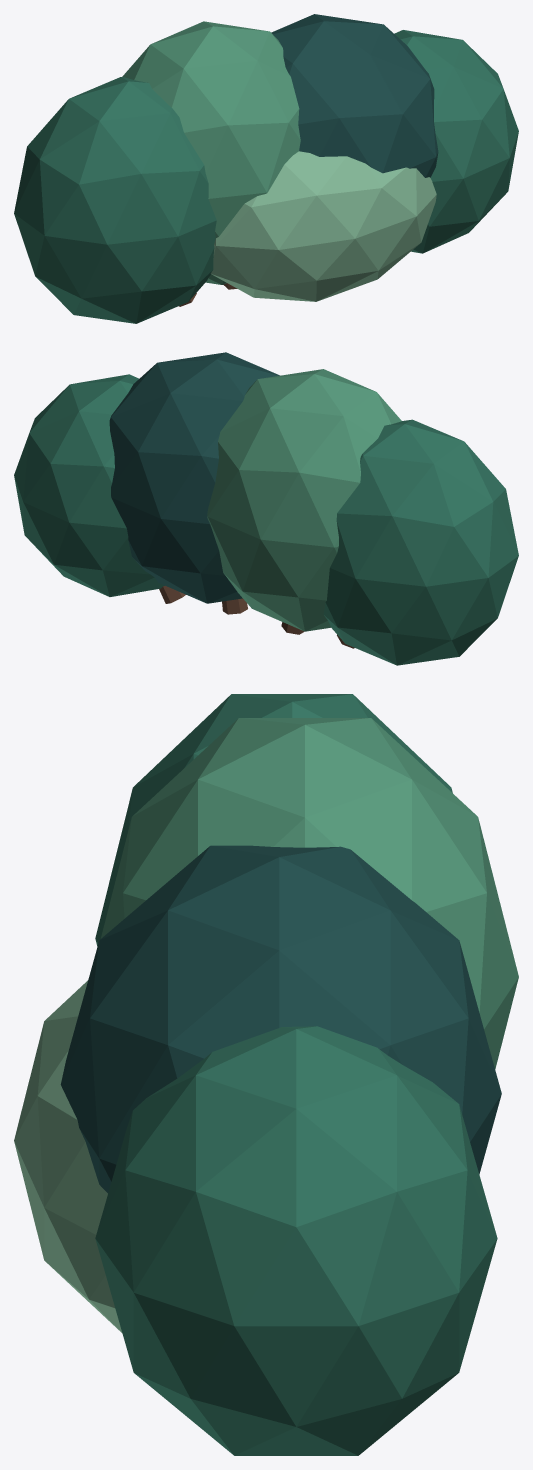
Rendered from EG_Arbusto_Alargado.fbx.
3 views of the same model, one above another, from view 1: azimuth 30°, elevation 25°; view 2: azimuth 150°, elevation 25°; view 3: azimuth 270°, elevation 25° (orthographic). The views are drawn at different scales.
Parts seen in each view (by area): view 1: EG_Arbusto_Alargado; view 2: EG_Arbusto_Alargado; view 3: EG_Arbusto_Alargado.
Boxes of the visible parts, x1=… form: EG_Arbusto_Alargado: x1=14, y1=14, x2=518, y2=323; EG_Arbusto_Alargado: x1=14, y1=352, x2=518, y2=665; EG_Arbusto_Alargado: x1=14, y1=694, x2=518, y2=1455.
Bounding box in the file's own units: 2.55 × 1.38 × 1.18.
1 material, 1 textured.
